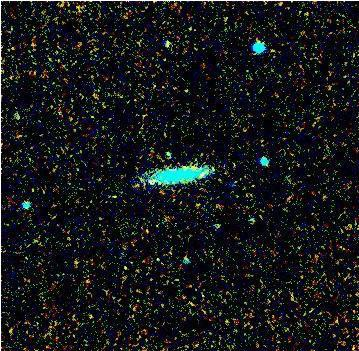star: (136, 169, 166, 199)
